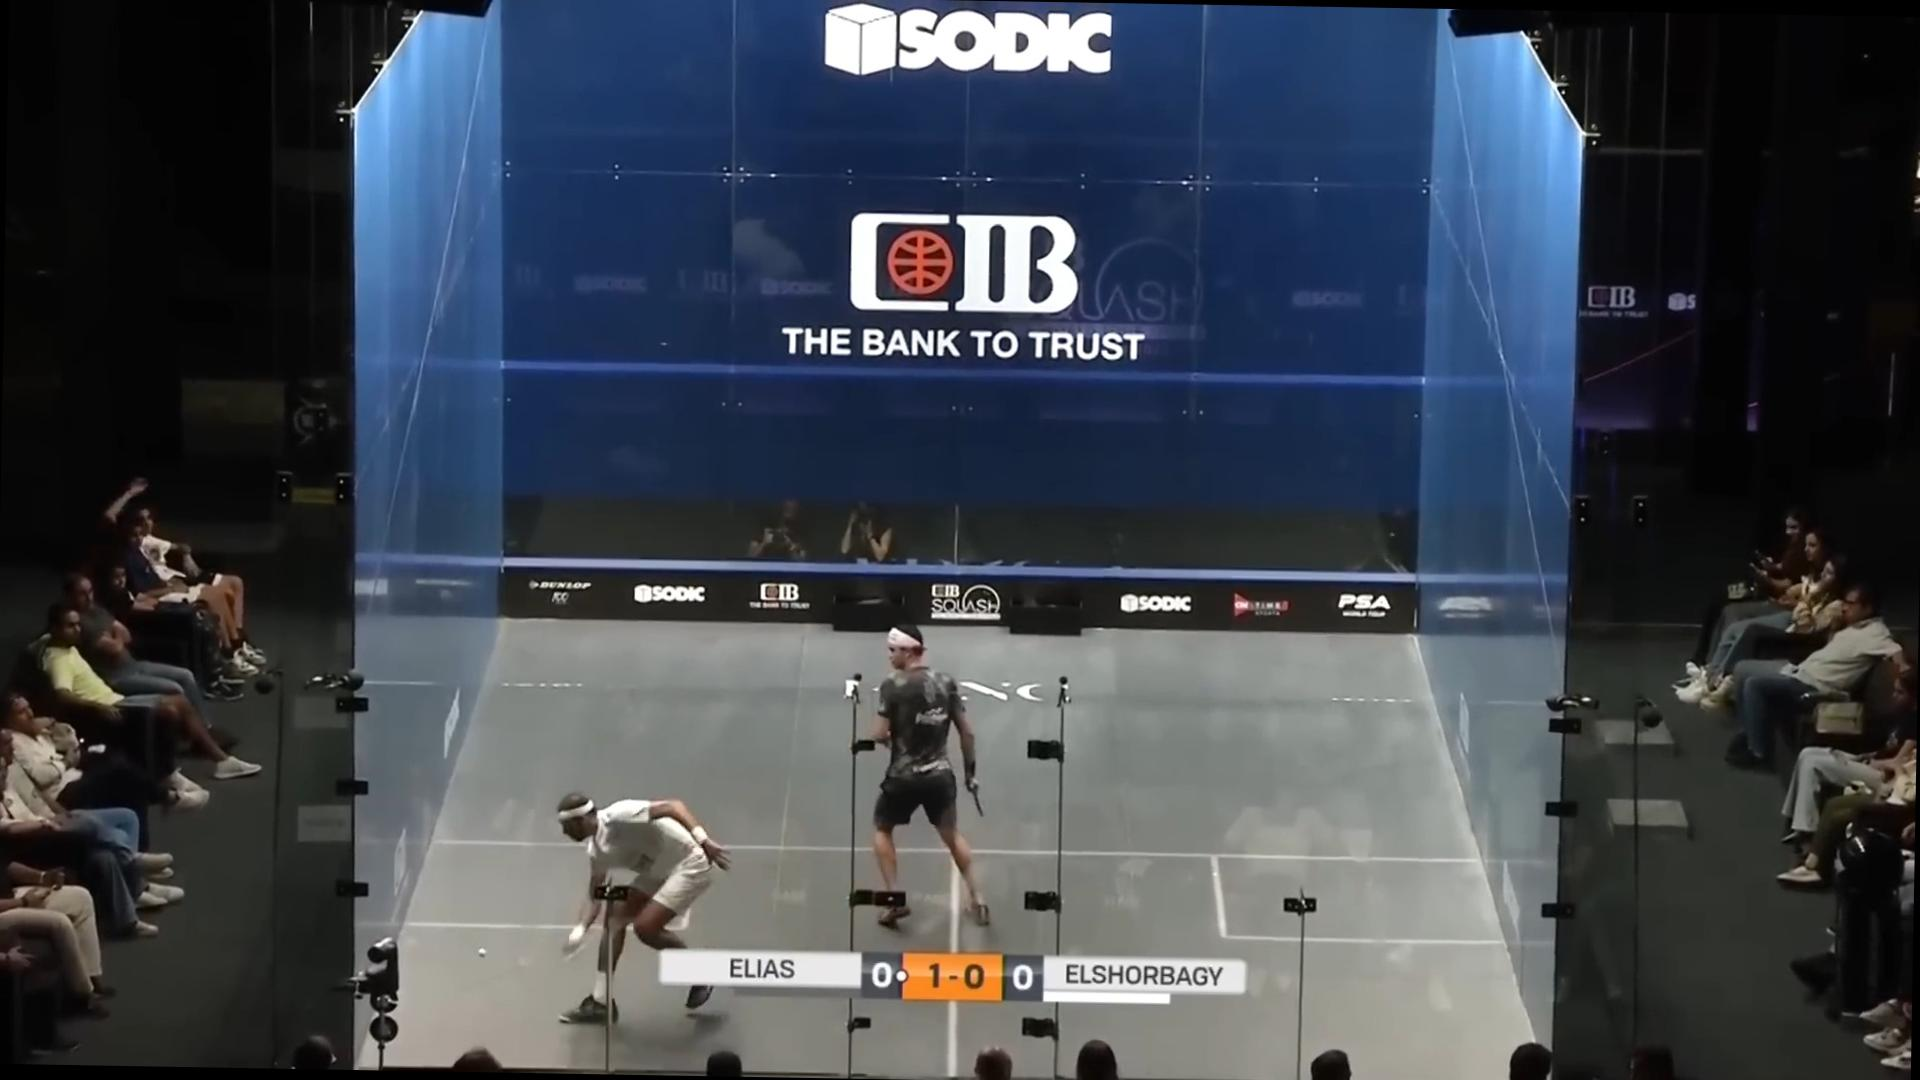Squash-Ball: (469, 938, 495, 965)
